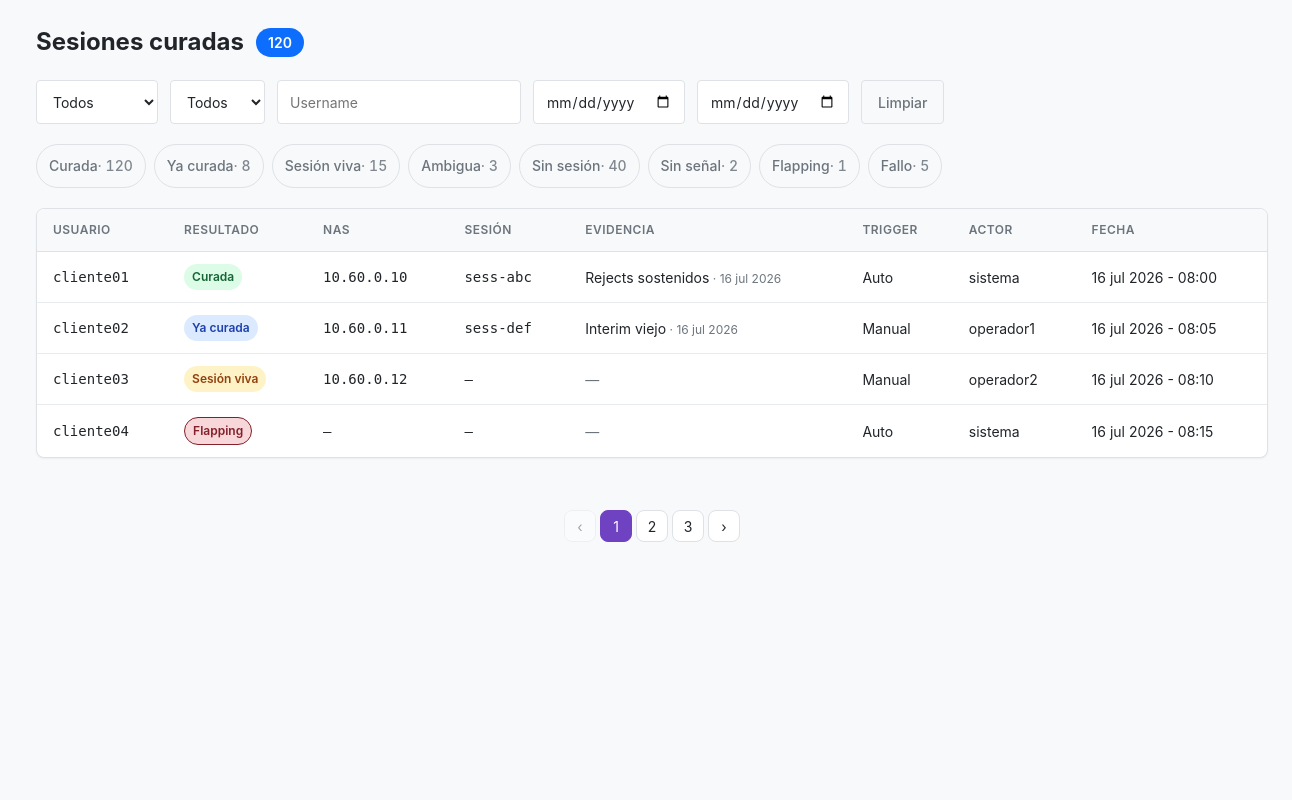
Scenario: RadiusSessionCuresPage — paginado › con total > limit muestra la paginación y navegar escribe cure_page
The width and height of the screenshot is (1292, 800).
Click the button named "siguiente": [724, 526] box [708,510,740,542]
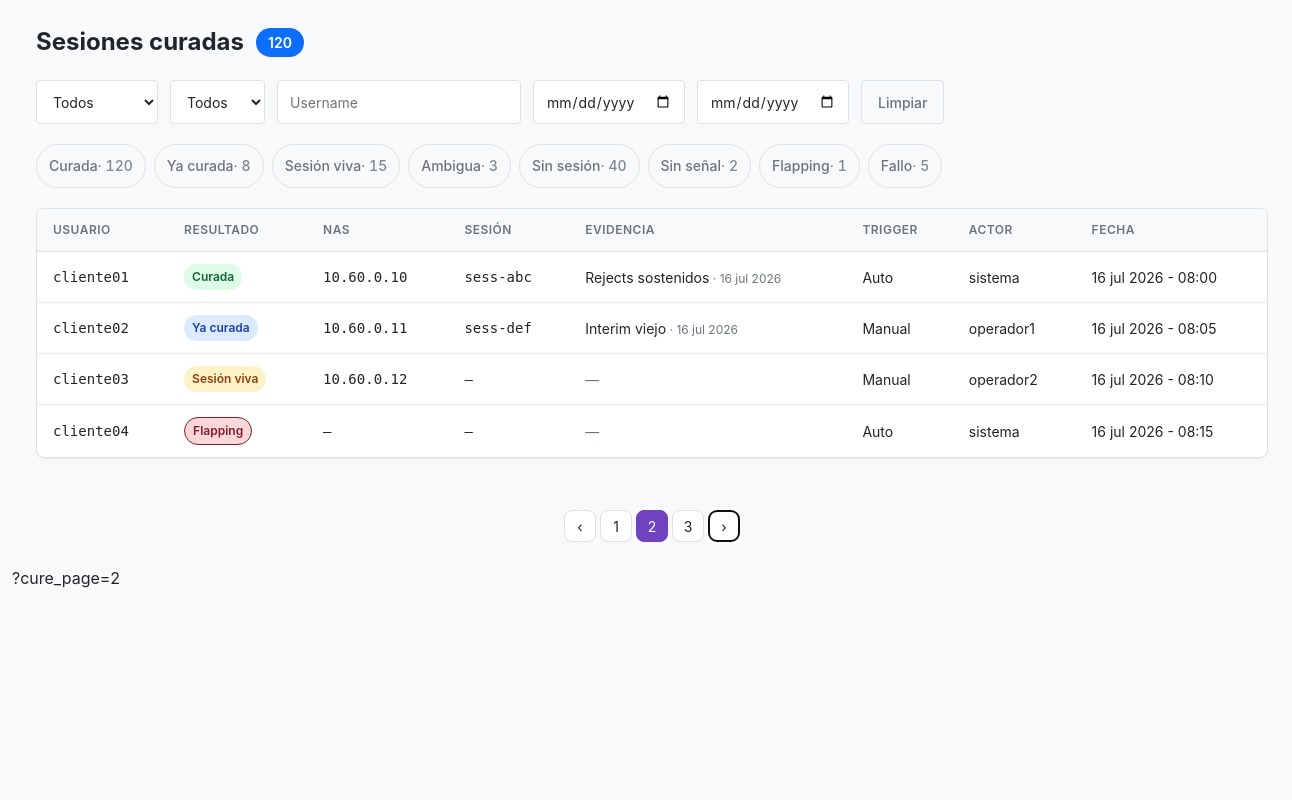
Expected: the text with test id "location-search" shows "cure_page=2", [12,568,120,588]
